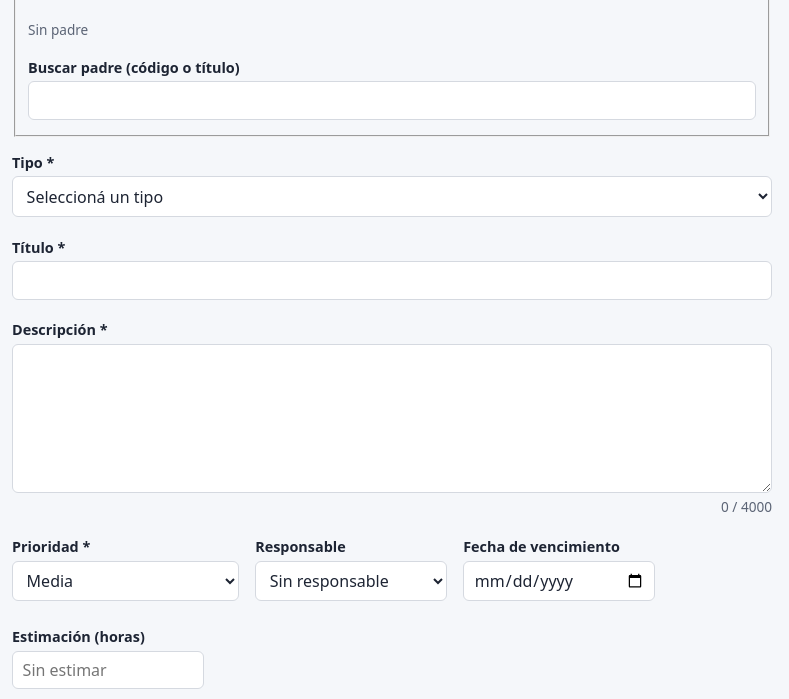
Test: IncidenciaFormComponent › Estimación (RF-005) › estimación -1 muestra "La estimación no puede ser negativa."
Type "-1" into the number field with id "incidencia-estimacion" at (108, 670), box [12,651,204,689]
(page scrolled)
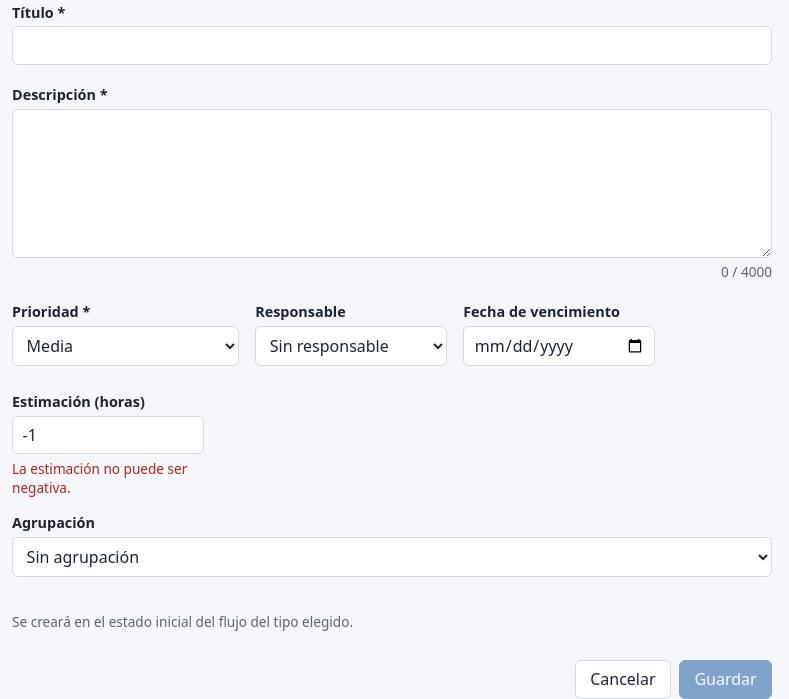
Check: the text "La estimación no puede ser negativa." is shown, box [12,459,204,497]
